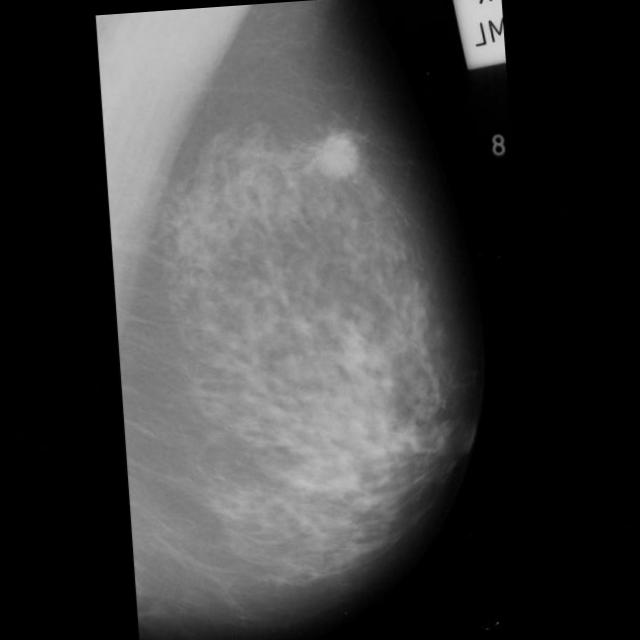SPIC: (312, 131, 361, 181)
